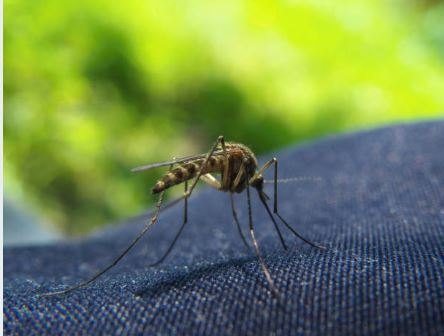dengue_mosquito: (130, 135, 324, 249)
